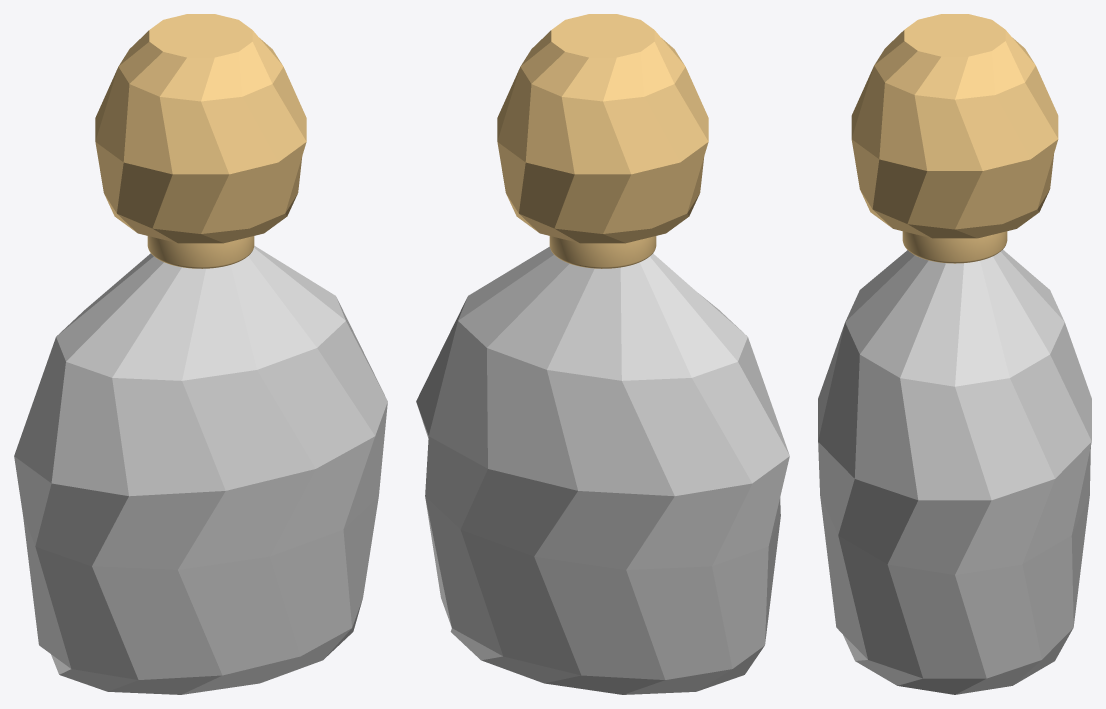
Rendered from luxury-opaline.glb.
3 views of the same model, side by side, from view 1: azimuth 30°, elevation 25°; view 2: azimuth 150°, elevation 25°; view 3: azimuth 270°, elevation 25° (orthographic). The views are drawn at different scales.
Parts seen in each view (by area): view 1: Glass_Body, Cap, Collar; view 2: Glass_Body, Cap, Collar; view 3: Glass_Body, Cap, Collar.
Part boxes in pixels (x1=…): Glass_Body: x1=14, y1=246, x2=387, y2=694; Cap: x1=95, y1=14, x2=306, y2=243; Collar: x1=147, y1=236, x2=254, y2=268; Glass_Body: x1=416, y1=246, x2=789, y2=694; Cap: x1=497, y1=14, x2=708, y2=243; Collar: x1=549, y1=236, x2=656, y2=268; Glass_Body: x1=818, y1=250, x2=1091, y2=694; Cap: x1=851, y1=14, x2=1058, y2=238; Collar: x1=902, y1=231, x2=1007, y2=263.
Bounding box in the file's own units: 0.0738 × 0.1267 × 0.0531.
